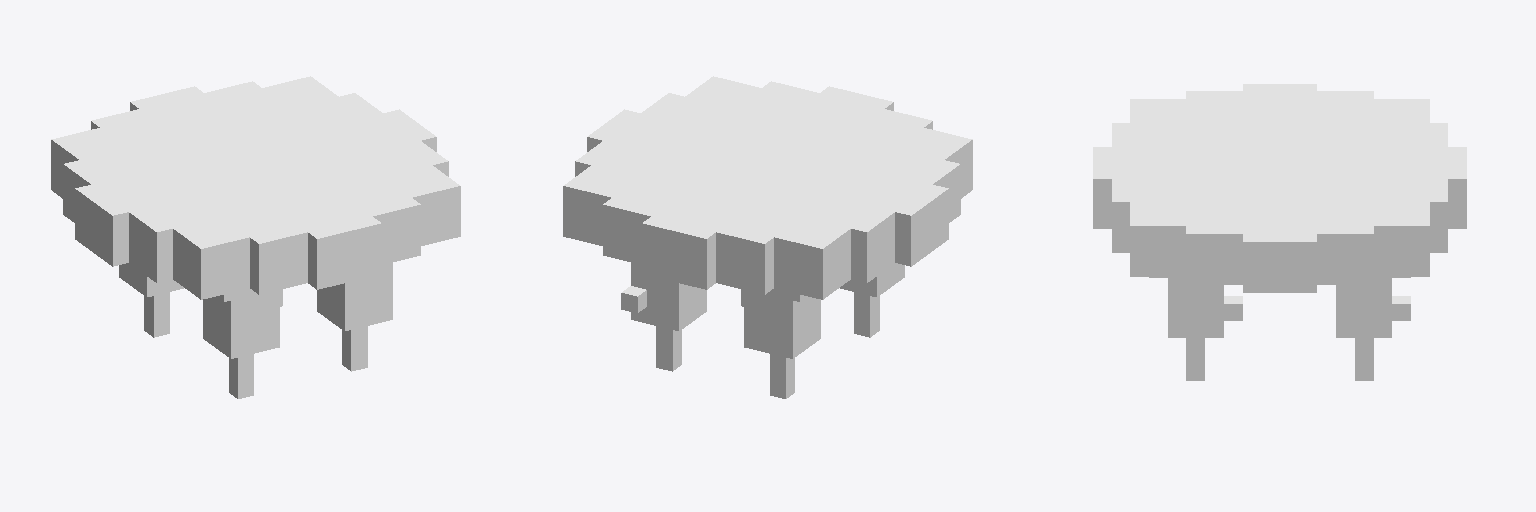
Rendered from greenpad.obj.
The picture shows the model from 3 angles: view 1: azimuth 30°, elevation 25°; view 2: azimuth 150°, elevation 25°; view 3: azimuth 270°, elevation 25°; orthographic projection.
Bounding box in the file's own units: 20 × 11 × 20.